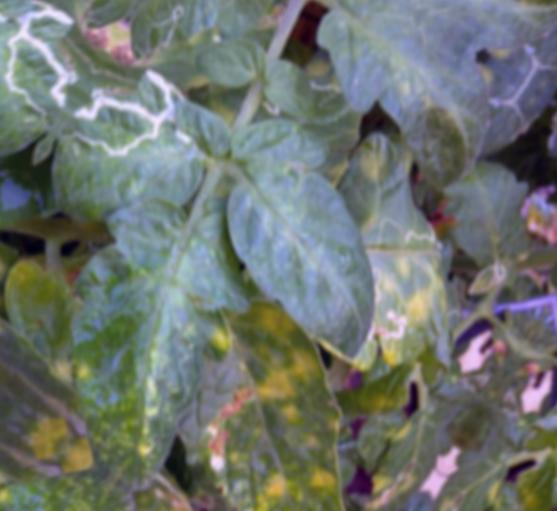Tomato mold leaf: (0, 159, 298, 500), (106, 277, 439, 511), (172, 116, 446, 379), (250, 0, 552, 233), (107, 0, 301, 118)
